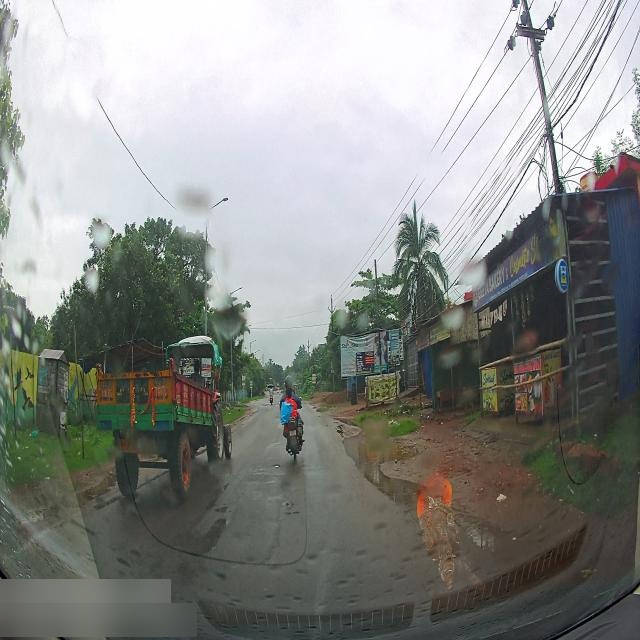pothole: (341, 424, 435, 478), (383, 489, 489, 535)
